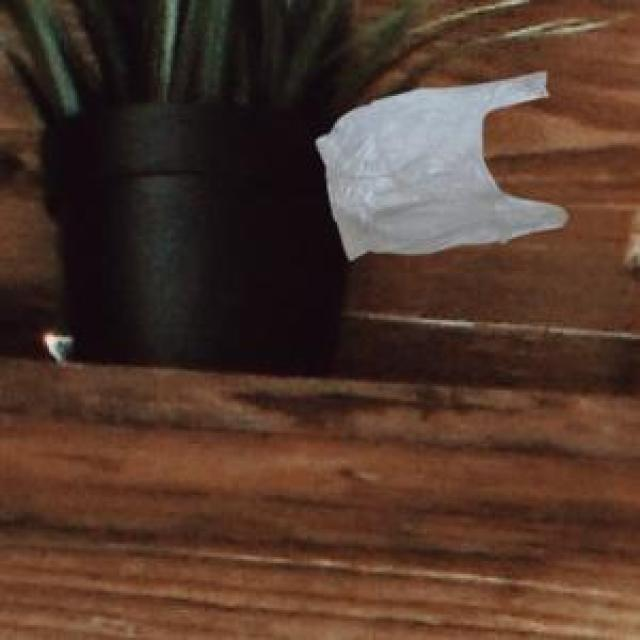Bolsa-de-nilon: (315, 72, 569, 263)
